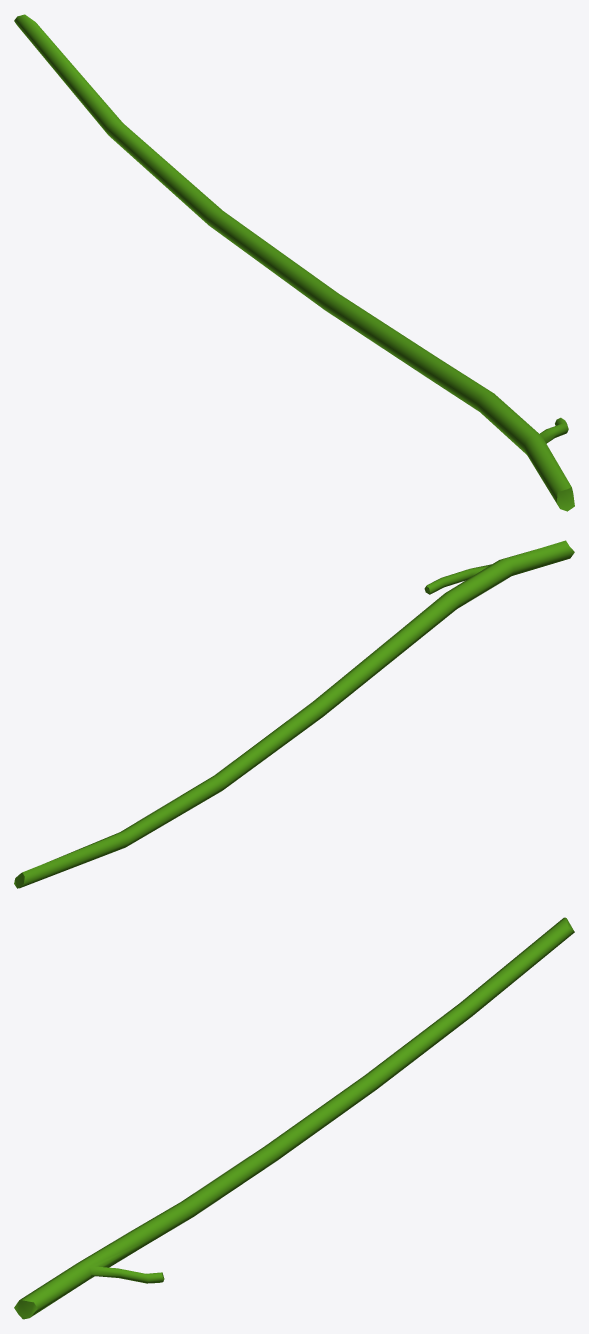
Rendered from MoyenneBranche.FBX.
3 renders of one model, top to bottom at view 1: azimuth 30°, elevation 25°; view 2: azimuth 150°, elevation 25°; view 3: azimuth 330°, elevation 25°, orthographic. The views are drawn at different scales.
Parts seen in each view (by area): view 1: branche002; view 2: branche002; view 3: branche002.
Part boxes in pixels (x1,y1,x2,y2): branche002: [14, 14, 574, 511]; branche002: [14, 540, 574, 888]; branche002: [14, 917, 574, 1319].
Bounding box in the file's own units: 12.61 × 6.94 × 139.
